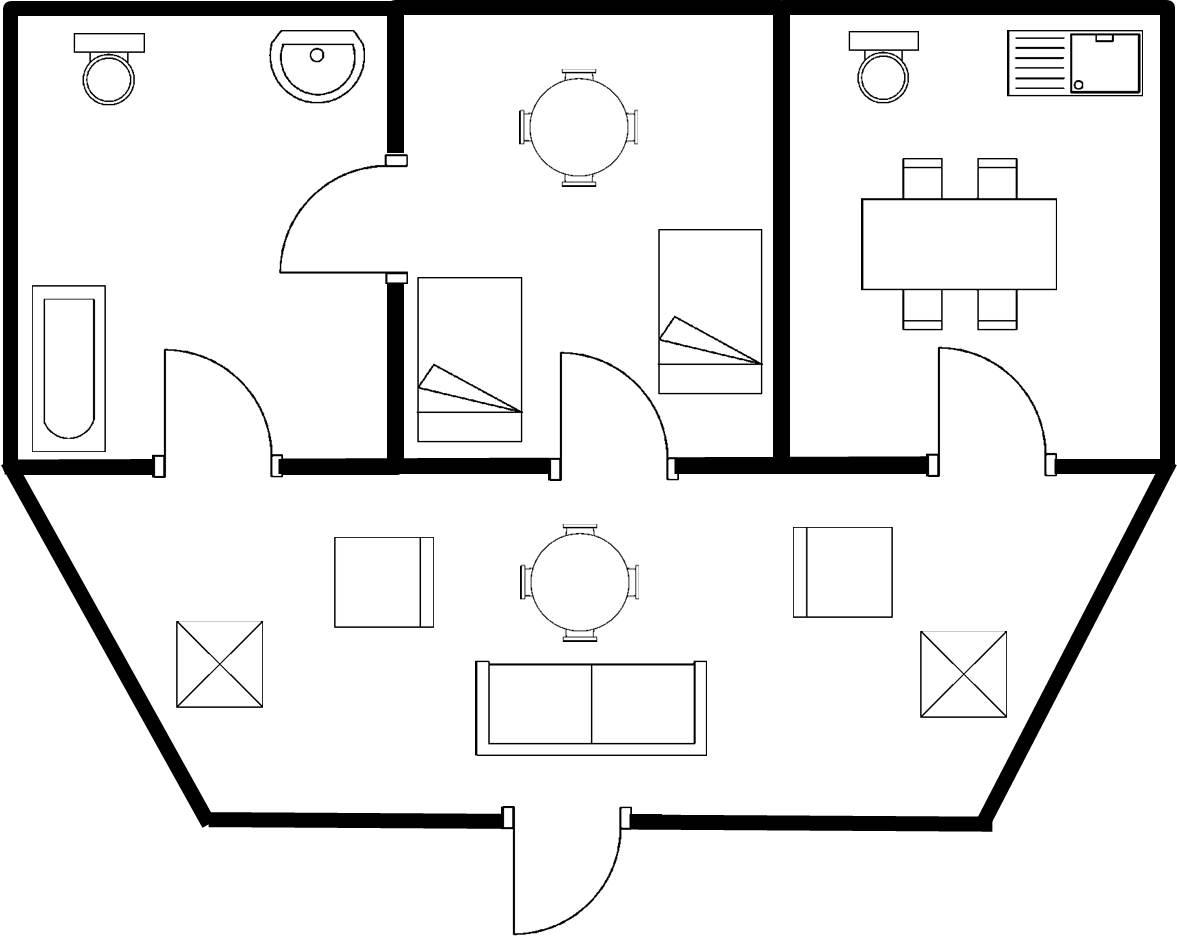bed: (410, 265, 528, 450), (649, 222, 766, 401)
dining_table: (849, 150, 1066, 340)
round_table: (507, 57, 649, 197)
sink: (998, 22, 1152, 106)
sofa: (466, 652, 717, 767)
toilet: (836, 22, 927, 111), (65, 24, 151, 110)
tub: (25, 278, 113, 454)
